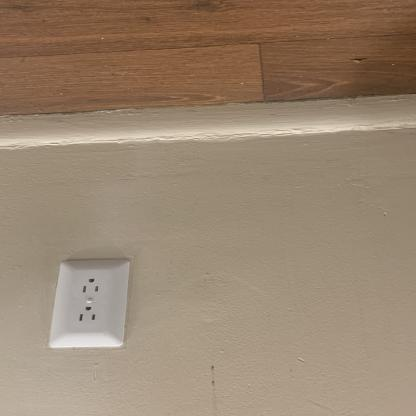OUTLET: (48, 258, 131, 350)
